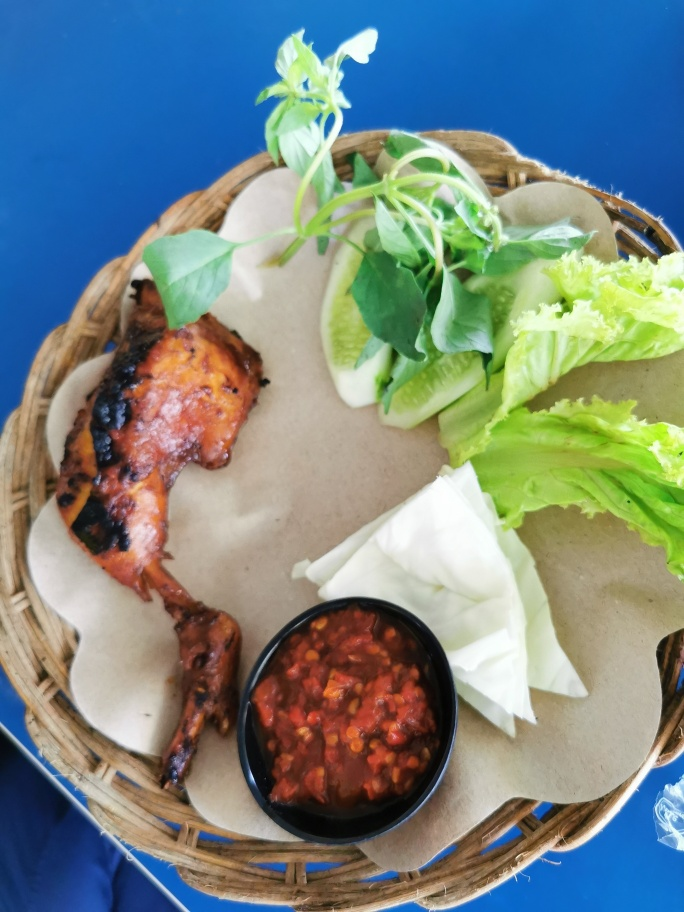ayam bakar: (34, 269, 319, 791)
